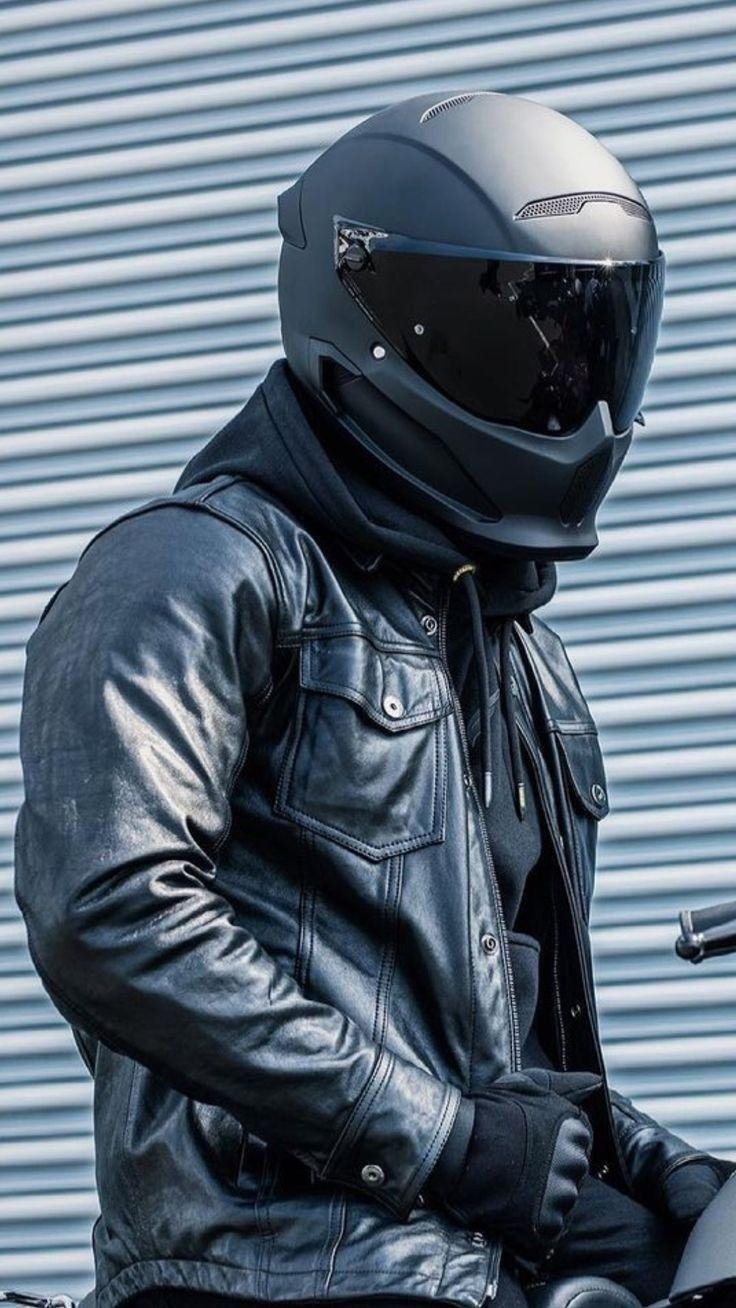Helmet: (278, 91, 663, 595)
